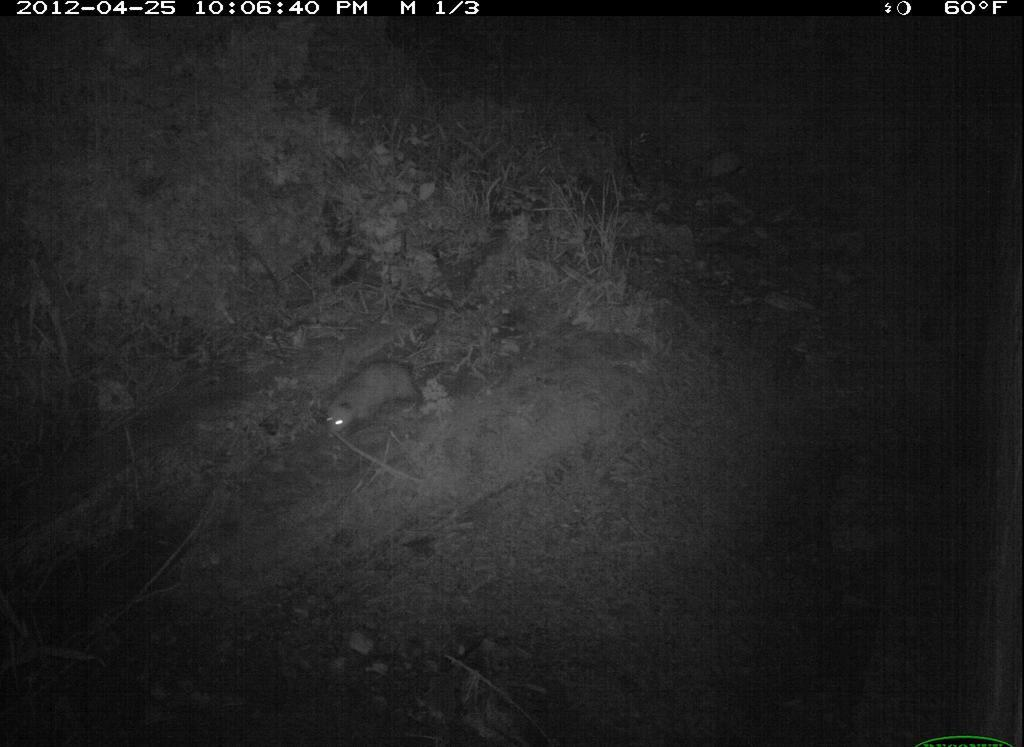opossum: (305, 346, 450, 459)
